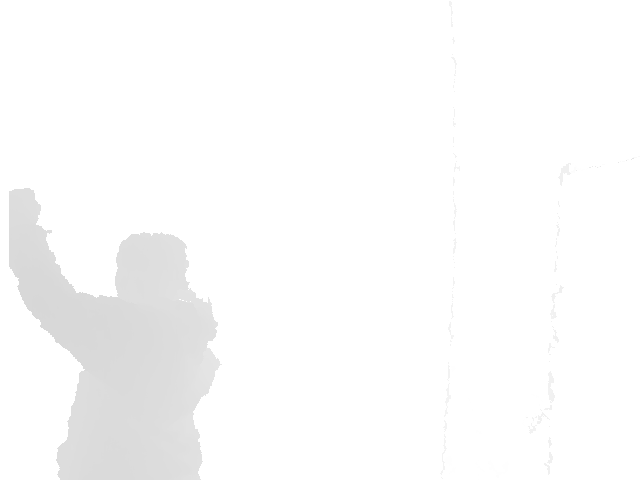hand: (8, 186, 42, 224)
head: (115, 232, 190, 308)
person: (8, 186, 222, 480)
